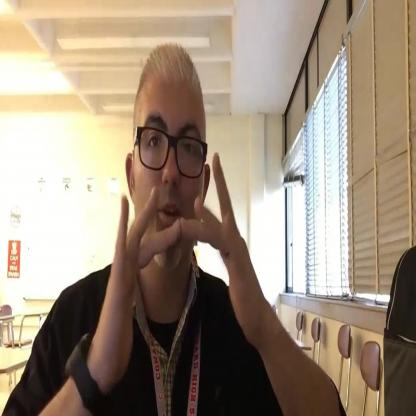Internet: (100, 153, 264, 390)
